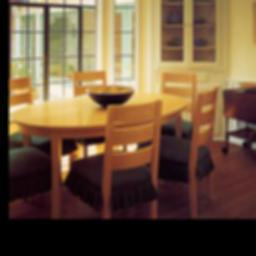Puerta: (13, 2, 78, 91)
